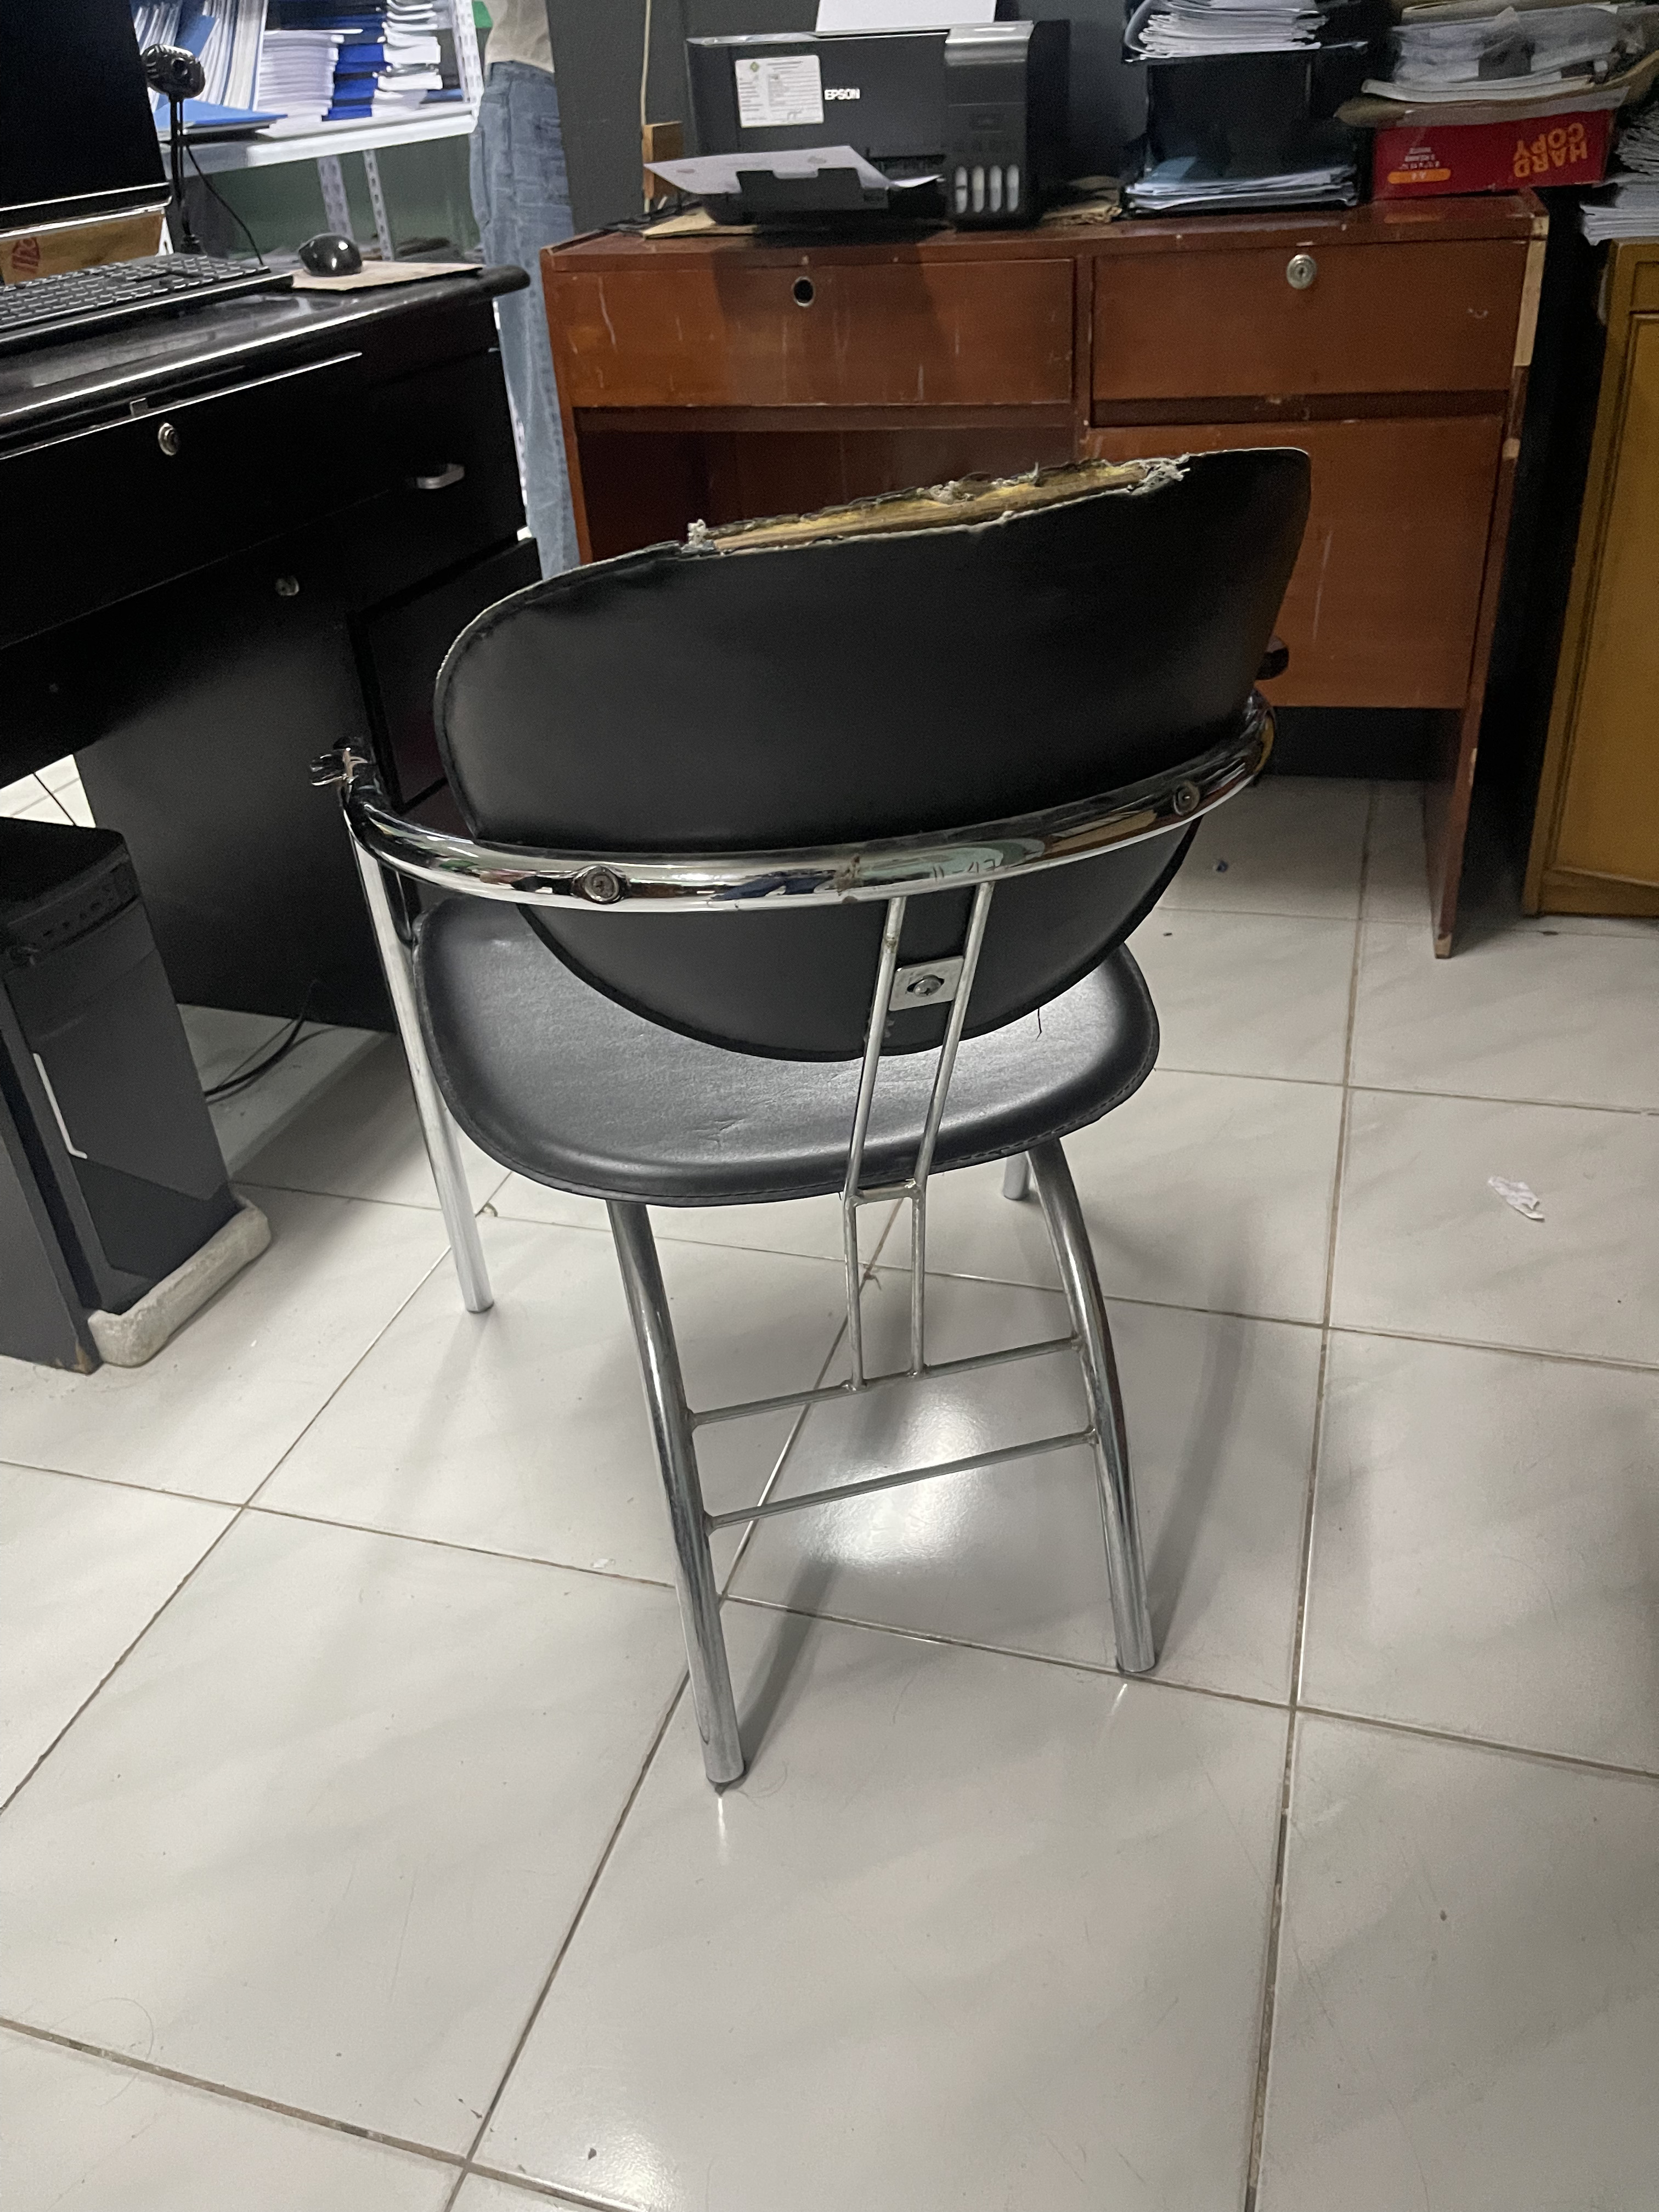chair1: (321, 449, 1317, 1792)
